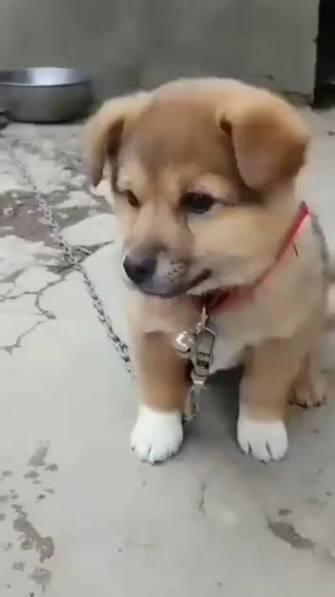puppy-dog: (78, 75, 335, 465)
